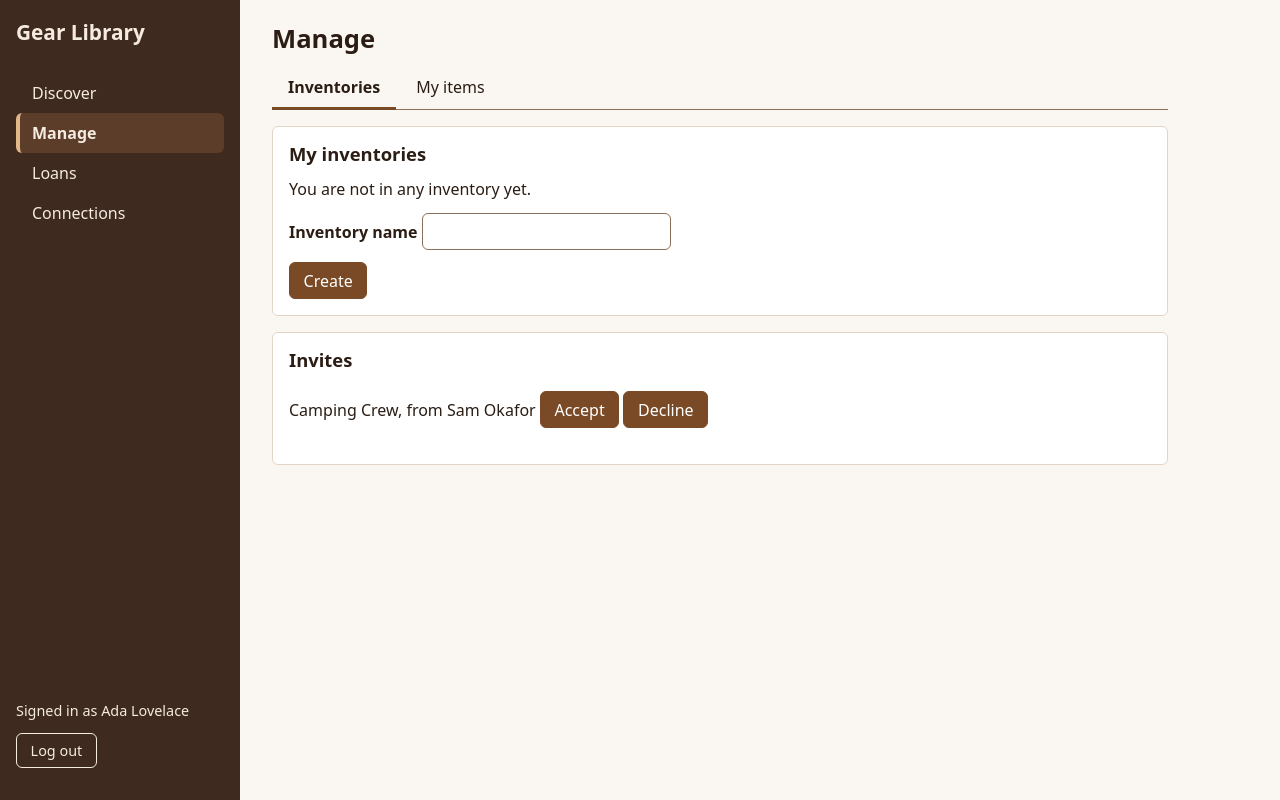
Test case: pending invites › accepting joins the inventory and reloads both lists
Step 1. Click the button with aria-label "Accept invite to Camping Crew" → (580, 410), box [540,391,619,428]
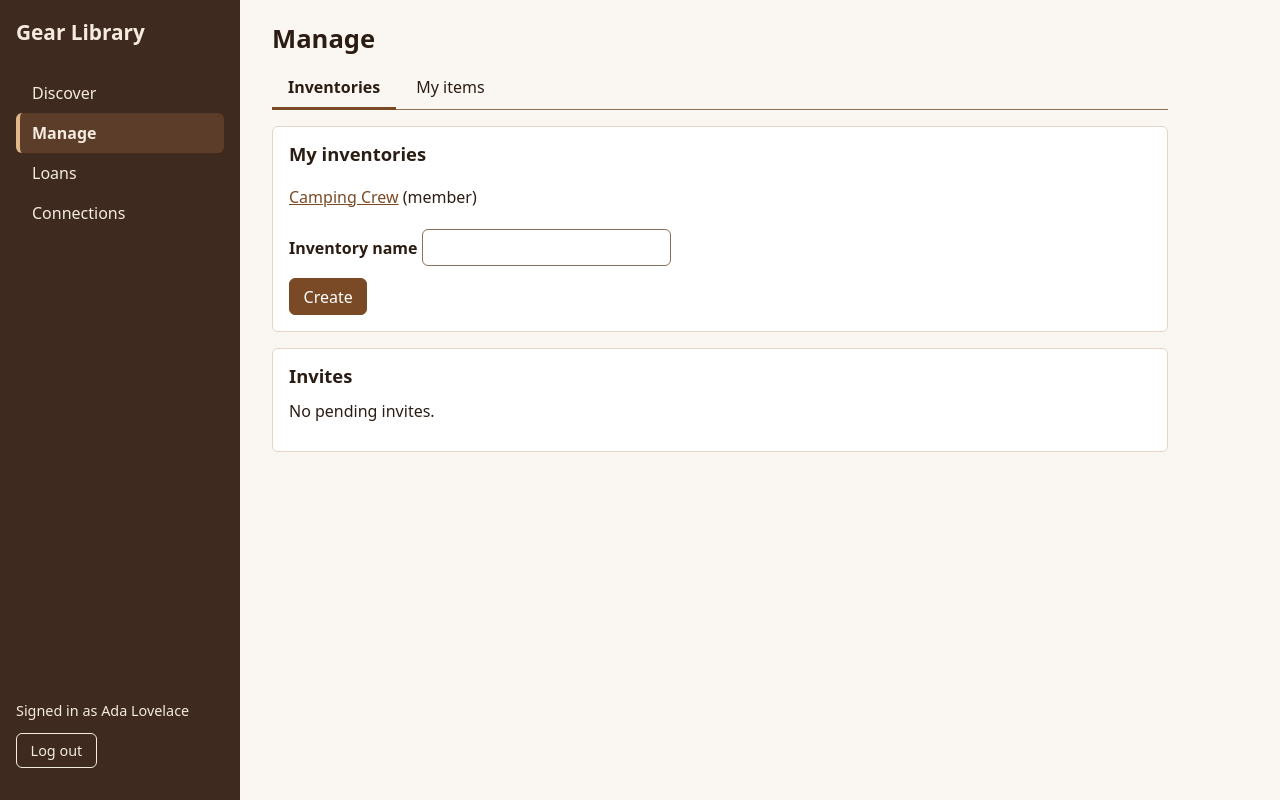
Expected: the link "Camping Crew" is shown, [289,186,399,208]
Now the text "No pending invites." is shown, box [289,400,435,422]
